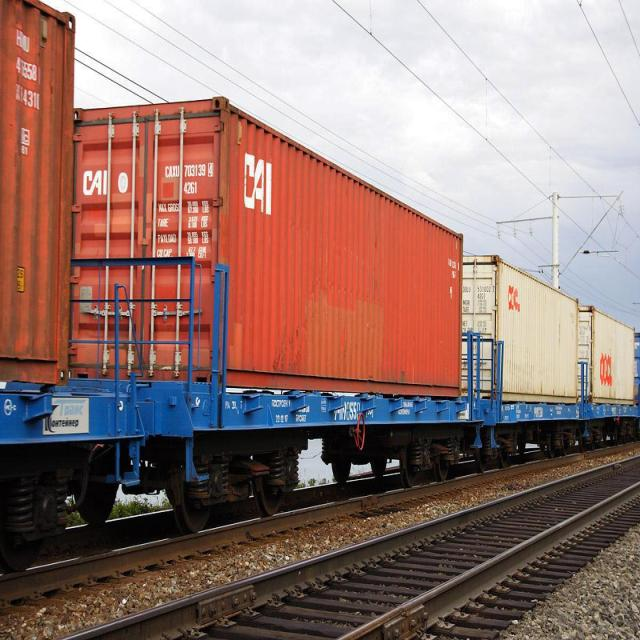Cart: (176, 431, 298, 535), (400, 438, 456, 492), (470, 432, 517, 476), (546, 428, 578, 461)
